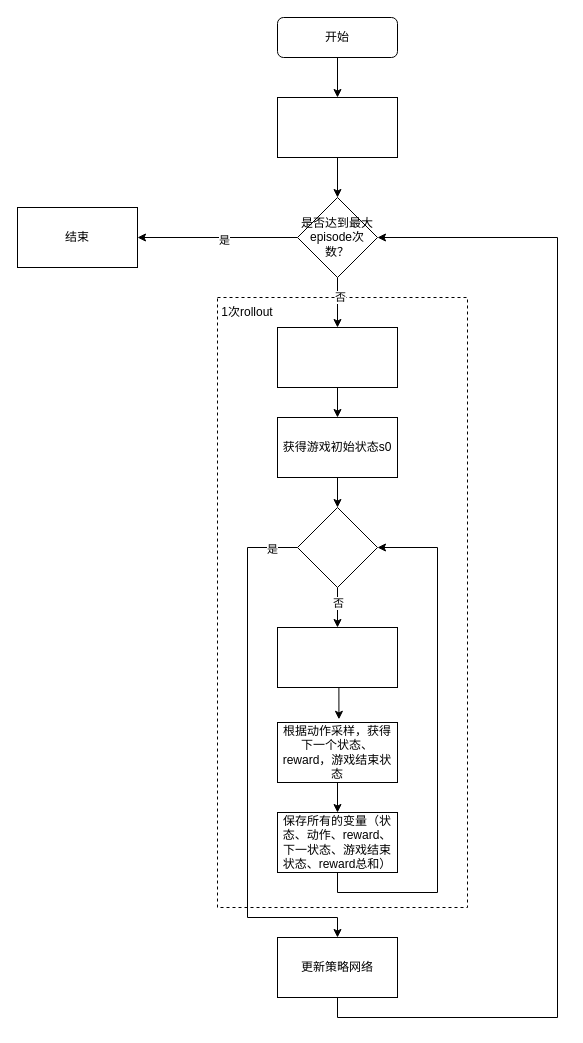
Image size: 583x1043. Some labels were removed from this diagram. The shapes that lost their labels are listed below. From the top down, each one's centre as x and y in pixels, then its label:
point 337,127: 初始化环境、初始化网络
point 337,357: 新建trajectory
point 337,547: 游戏是否结束？
point 337,657: 根据状态和当前action概率分布，随机采样获得动作
